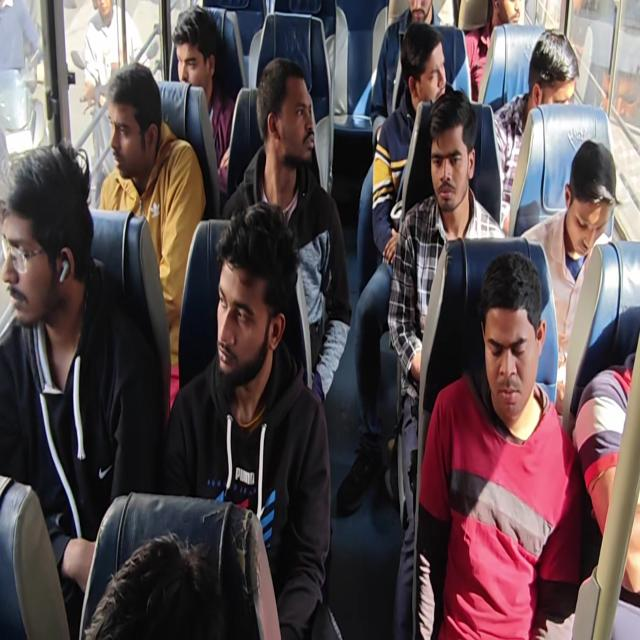person: (1, 1, 638, 638), (0, 140, 163, 638), (162, 201, 341, 638), (387, 87, 507, 638), (414, 251, 583, 638), (336, 21, 450, 516), (220, 56, 352, 402), (97, 62, 206, 413), (519, 138, 618, 415), (371, 21, 449, 264), (492, 29, 579, 234), (572, 347, 639, 597), (82, 531, 229, 639), (81, 0, 144, 207), (172, 5, 235, 195), (370, 0, 448, 151), (463, 0, 521, 102)
